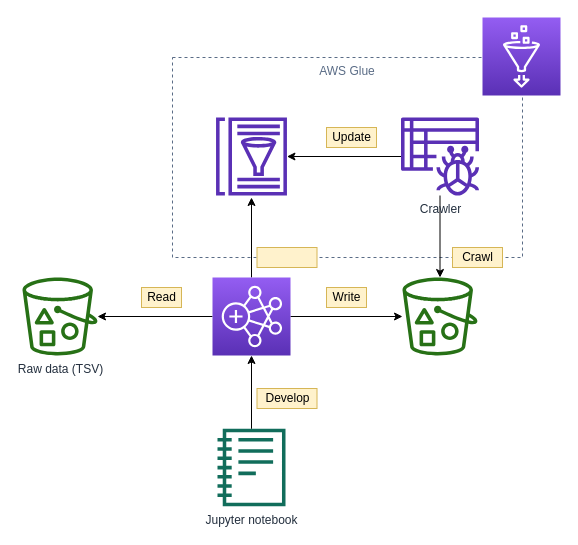
The diagram is 578 pixels wide and 545 high, and some of its shapes have lost their labels. The shapes that lost their labels are listed below. From the top down, each one's centre as x and y in pixels, then its label:
the point at 251,156: Data Catalogue
the point at 286,257: Retrieve
the point at 251,316: Amazon EMR
the point at 439,316: Curated data (Parquet)
